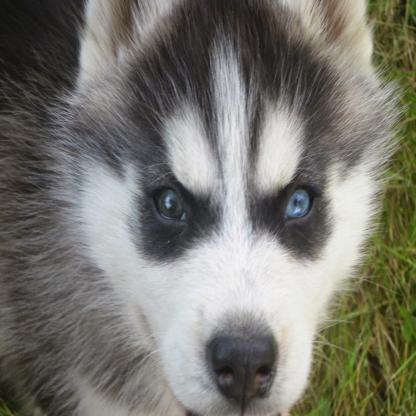dog: (1, 0, 399, 414)
